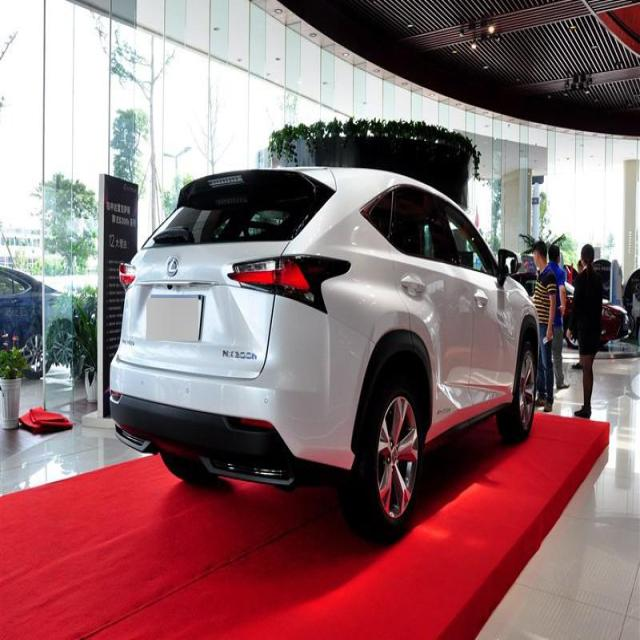back_glass: (140, 170, 325, 250)
back_left_side_light: (116, 258, 141, 292)
back_right_side_light: (224, 253, 357, 316)
door: (382, 185, 471, 421)
front_right_side_door: (438, 190, 519, 415)
front_right_side_mirror: (497, 243, 520, 283)
rear_bumper: (108, 351, 355, 487)
wheel: (343, 378, 423, 533), (500, 340, 535, 434)
